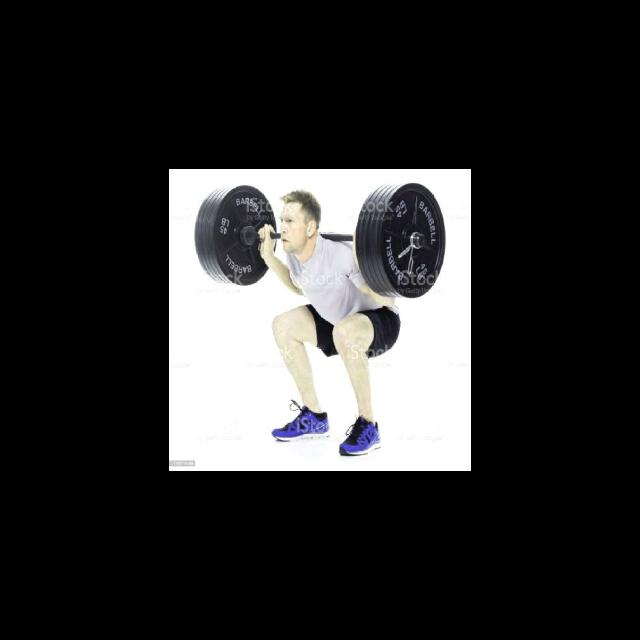barbell: (382, 181, 445, 299)
